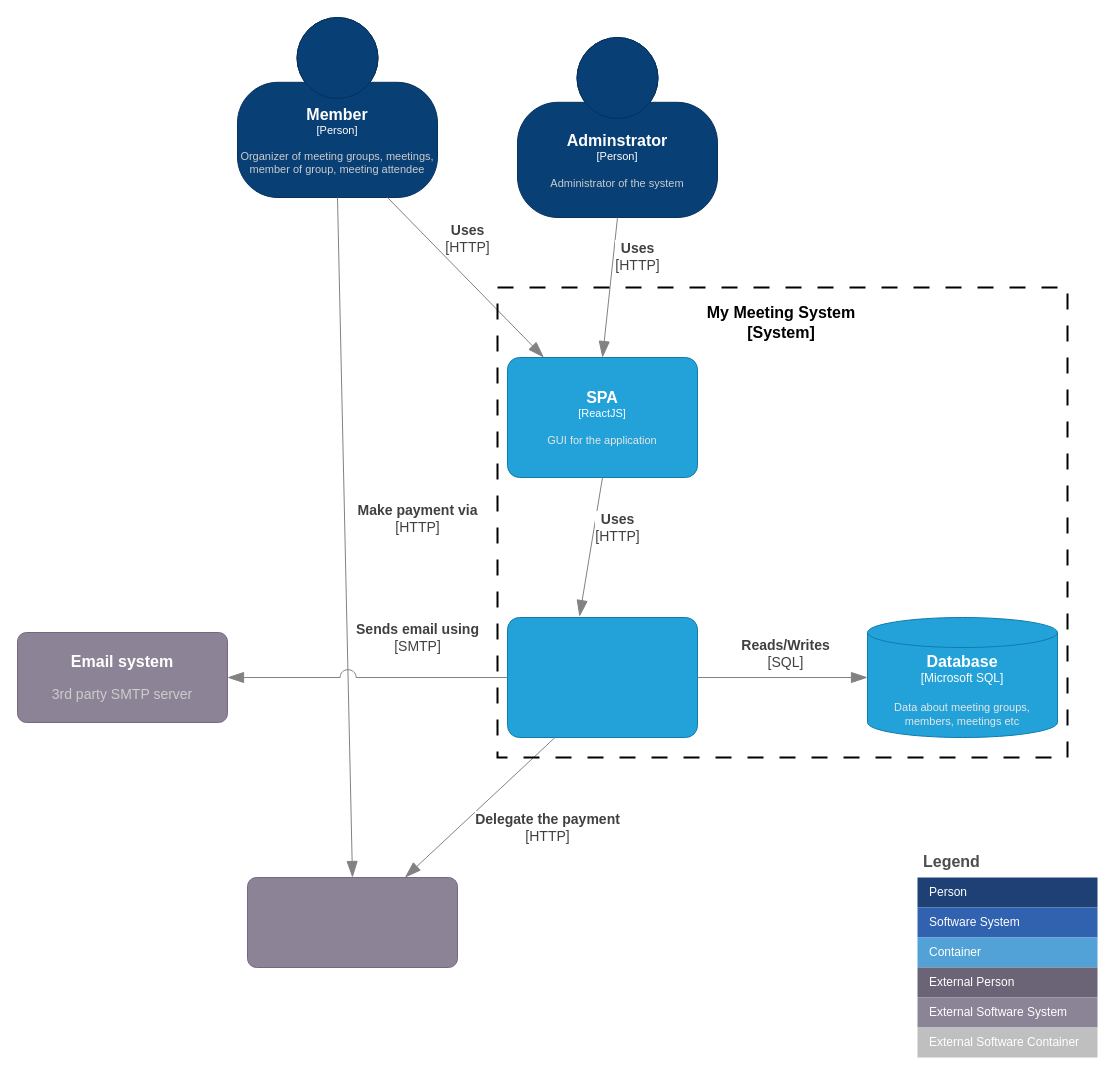
The diagram is 1115 pixels wide and 1075 high, and some of its shapes have lost their labels. The centre of each missing label's shape, as x and y in pixels:
My Meetings API [.NET core] Backend: point (602, 677)
Payment Gateway 3rd party payment server: point (352, 922)
